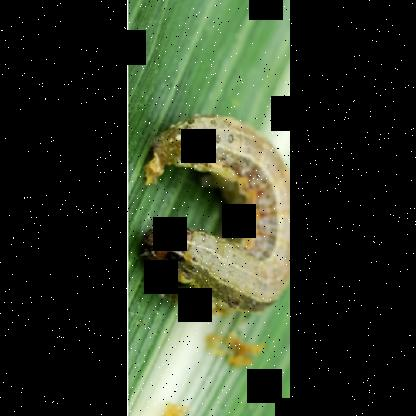oruga: (141, 114, 289, 314)
